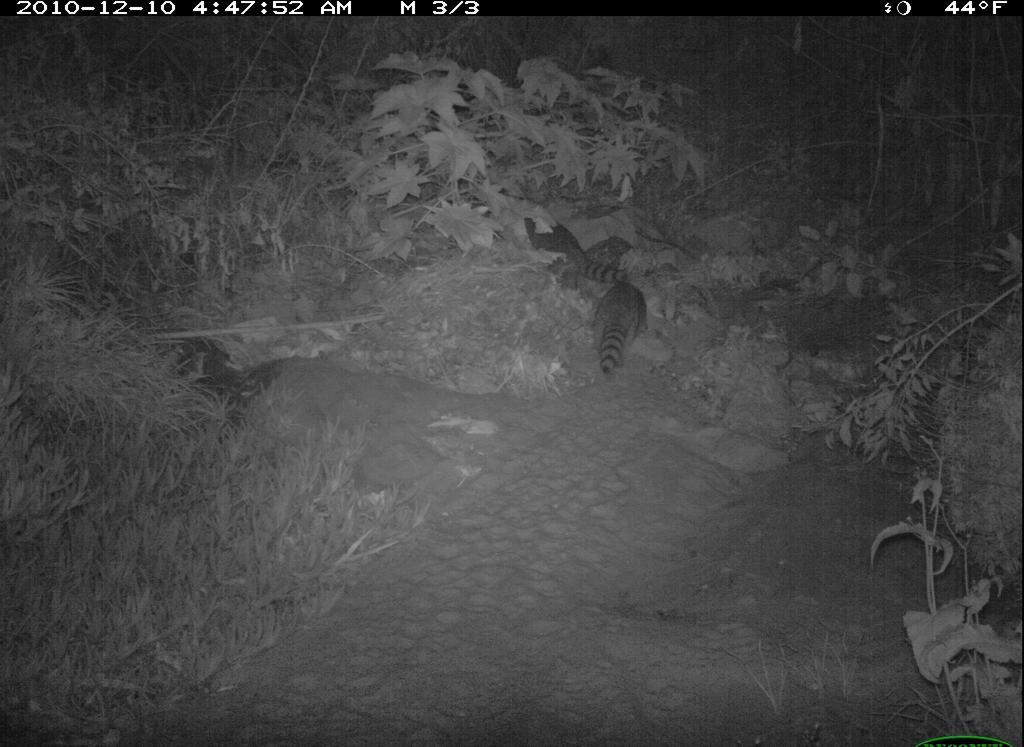raccoon: (519, 204, 631, 286)
